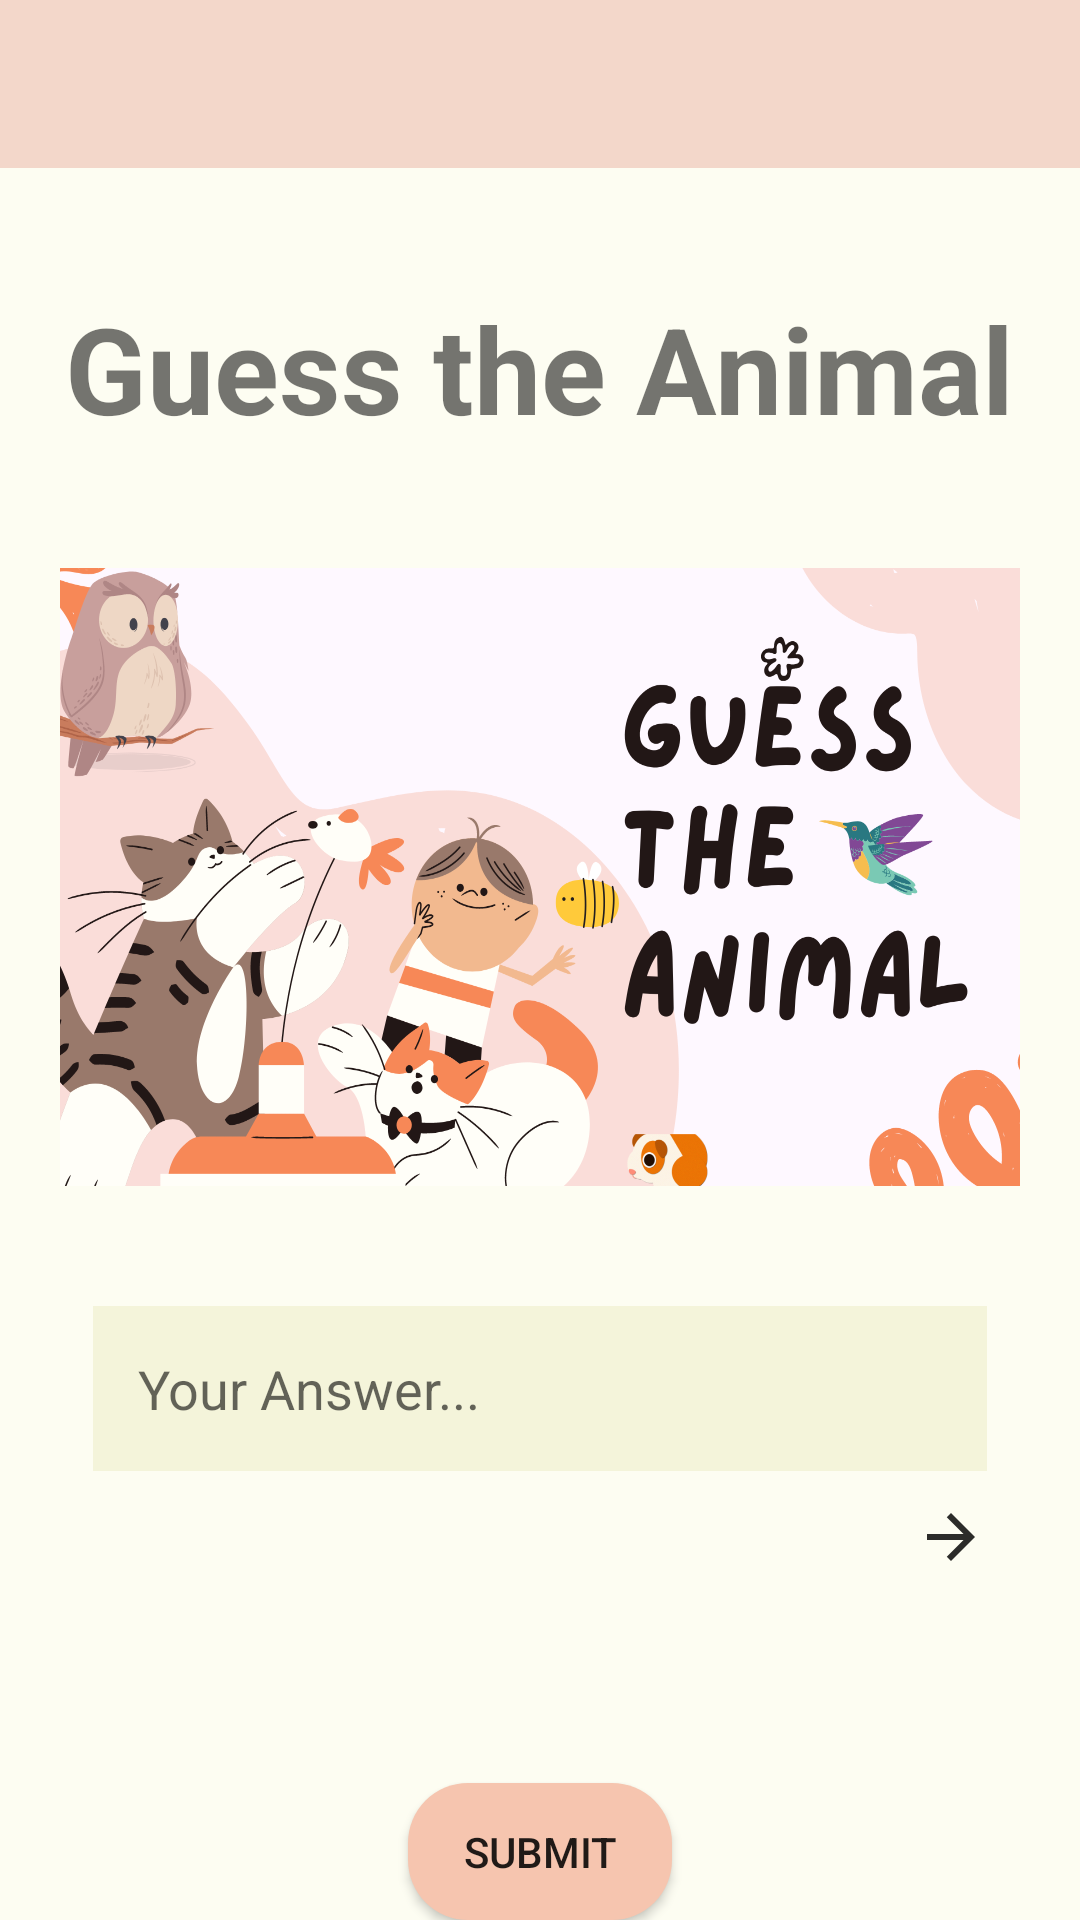

Icons on this 1080 x 1920 Android screen, each with the point to tap as (x=x, y=y):
arrow forward: (x=951, y=1537)
